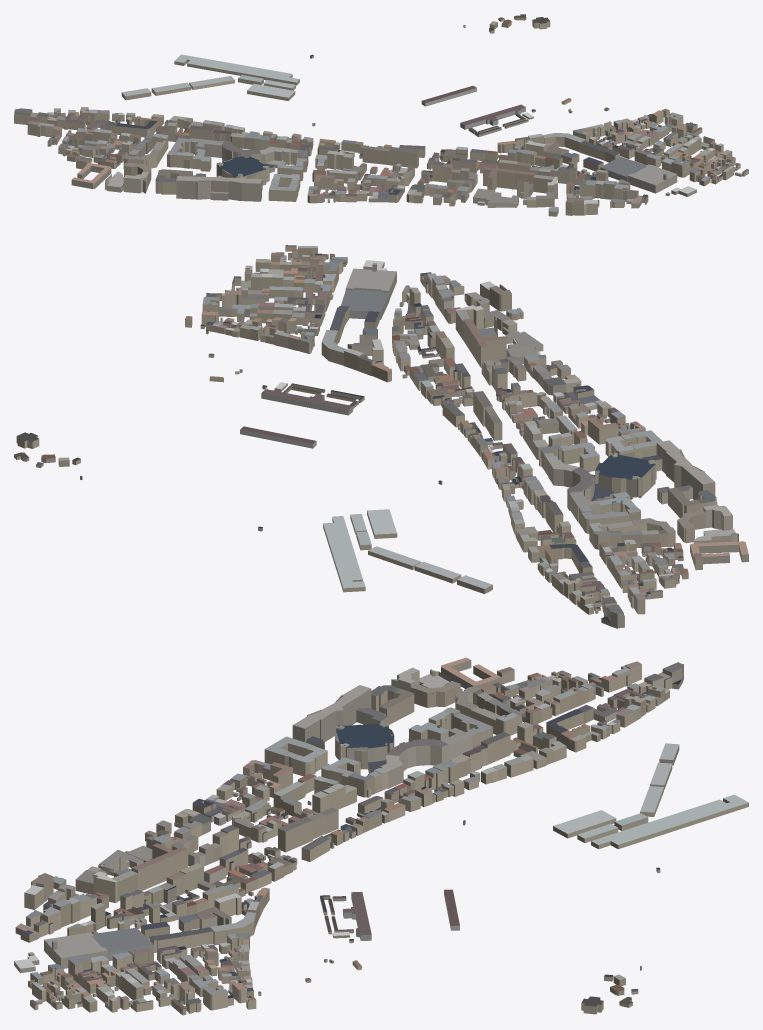
3 views of the same model, one above another, from view 1: azimuth 30°, elevation 25°; view 2: azimuth 150°, elevation 25°; view 3: azimuth 270°, elevation 25° (orthographic). The views are drawn at different scales.
Visible parts, largest first — view 1: tuile; view 2: tuile; view 3: tuile.
Boxes of the visible parts, bbox=[...] form: tuile: bbox=[14, 14, 748, 216]; tuile: bbox=[14, 245, 748, 628]; tuile: bbox=[14, 657, 748, 1015].
Bounding box in the file's own units: 1060 × 37.52 × 938.
